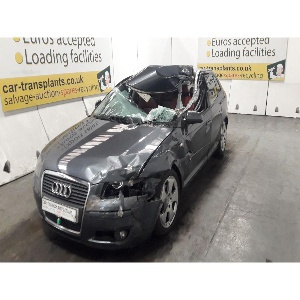bumper: (95, 188, 161, 252)
front_windshield_glass: (102, 80, 176, 120)
